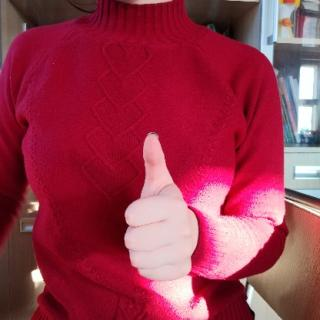ALIF: (122, 128, 200, 294)
